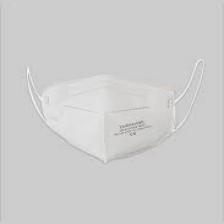mask: (17, 46, 216, 172)
